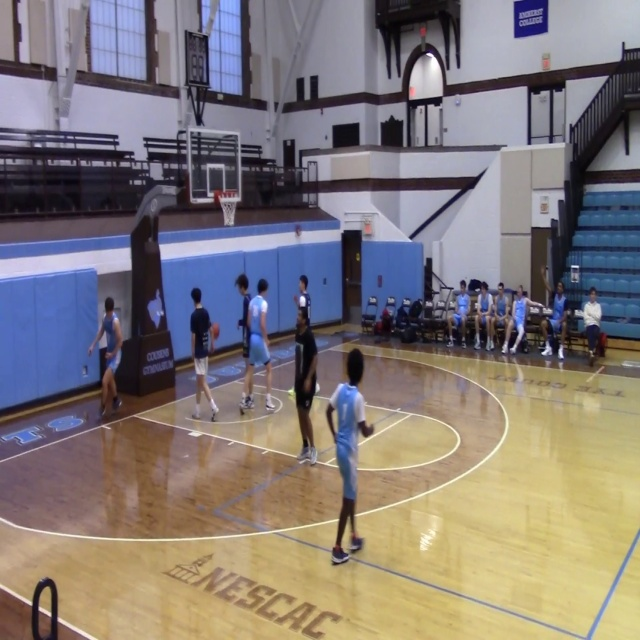Basketball: (210, 323, 220, 338), (419, 26, 426, 36)
